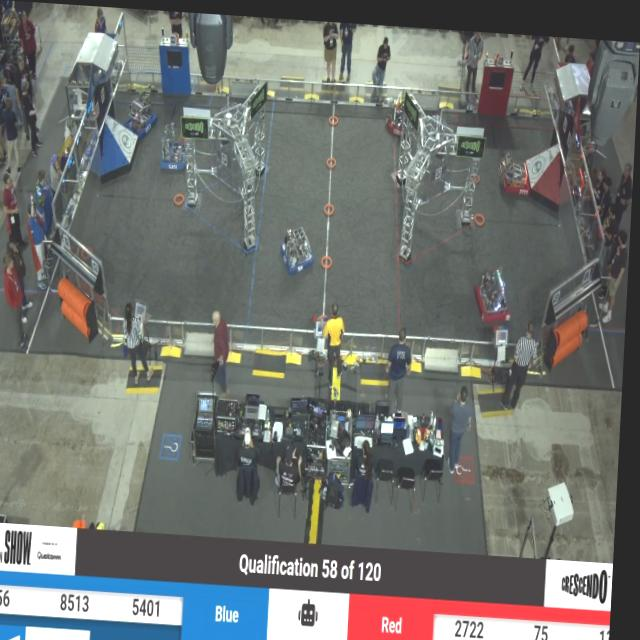Robot: (468, 249, 520, 330), (274, 212, 323, 281), (494, 131, 539, 201), (384, 77, 429, 138), (157, 114, 196, 183), (120, 78, 159, 145)
